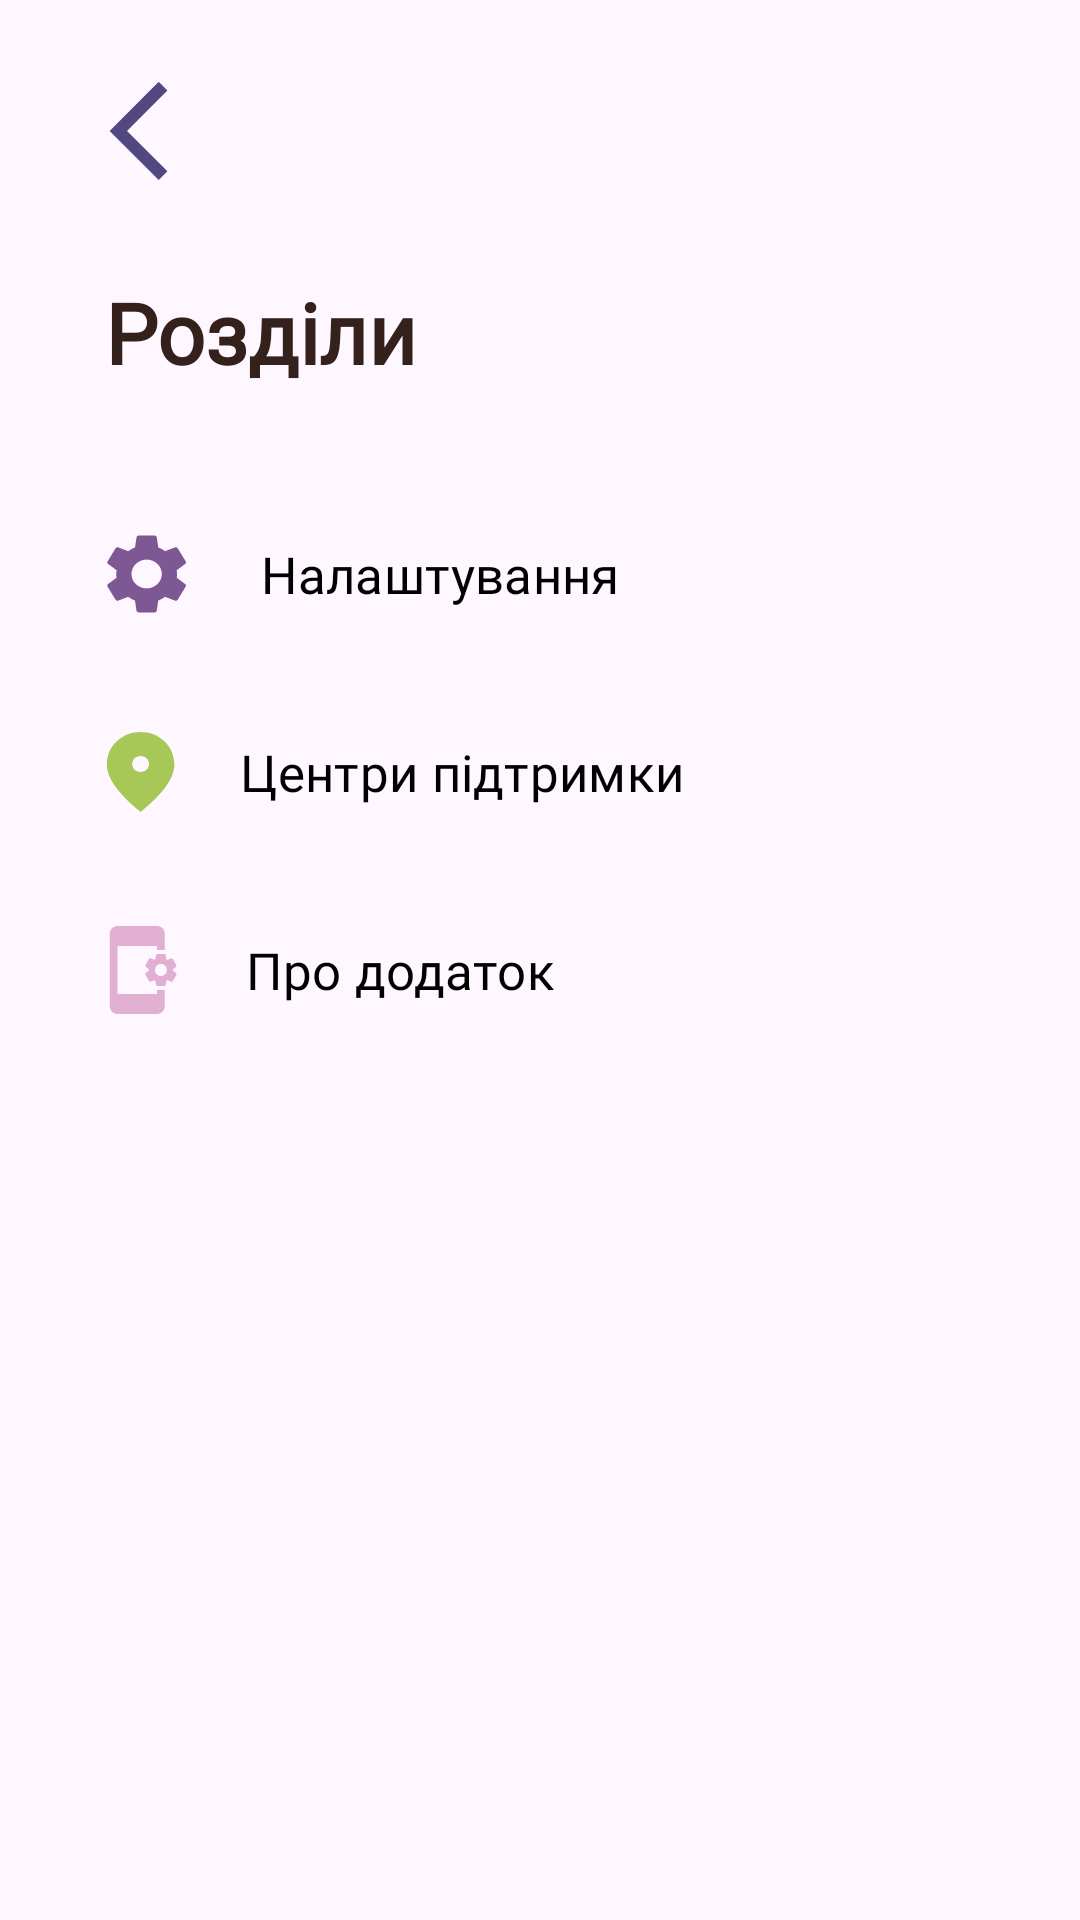

Icon click points for this 1080px×1920px phone screenshot, format [x,y]:
Повернутись на головну сторінку: [139,131]
